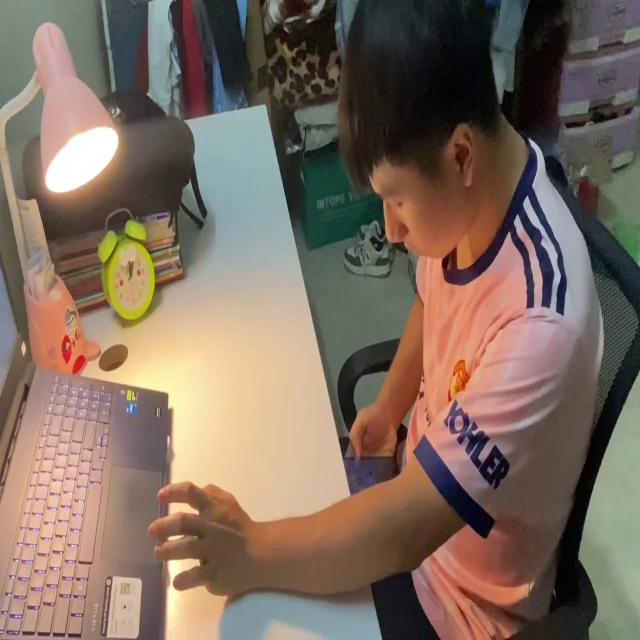laptop: (0, 250, 172, 640)
phone: (336, 448, 396, 500)
student: (149, 0, 601, 640)
